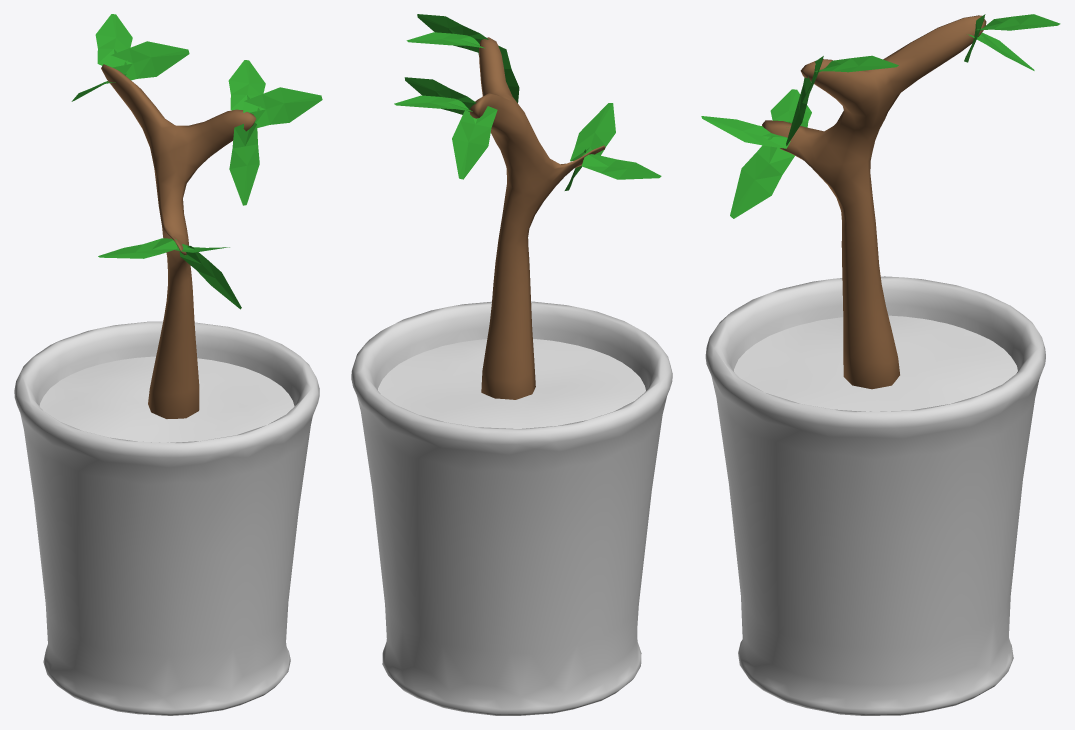
Rendered from maceta.fbx.
3 renders of one model, left to right at view 1: azimuth 30°, elevation 25°; view 2: azimuth 150°, elevation 25°; view 3: azimuth 270°, elevation 25°, orthographic. The views are drawn at different scales.
Visible parts, largest first — view 1: Cuenco, Tierra, Rama, Hoja.005, Hoja.008, Hoja.003, Hoja.007, Hoja.004, Hoja.001, Hoja; view 2: Cuenco, Tierra, Rama, Hoja.006, Hoja.002, Hoja, Hoja.008, Hoja.005, Hoja.004, Hoja.007; view 3: Cuenco, Rama, Tierra, Hoja.001, Hoja.002, Hoja.007, Hoja.004, Hoja.
Part boxes in pixels (box(x1,y1,x2,y2)): Cuenco: box(14, 321, 319, 715); Tierra: box(39, 356, 294, 442); Rama: box(101, 64, 256, 418); Hoja.005: box(243, 87, 322, 127); Hoja.008: box(110, 41, 189, 80); Hoja.003: box(229, 122, 259, 205); Hoja.007: box(95, 14, 132, 66); Hoja.004: box(228, 60, 265, 112); Hoja.001: box(179, 246, 241, 309); Hoja: box(98, 238, 177, 258); Cuenco: box(351, 301, 672, 715); Tierra: box(378, 339, 645, 428); Rama: box(469, 37, 605, 399); Hoja.006: box(452, 106, 497, 179); Hoja.002: box(570, 103, 615, 161); Hoja: box(581, 153, 661, 179); Hoja.008: box(404, 77, 476, 114); Hoja.005: box(417, 14, 488, 52); Hoja.004: box(406, 32, 485, 48); Hoja.007: box(394, 95, 472, 111); Cuenco: box(705, 276, 1045, 715); Rama: box(762, 15, 986, 389); Tierra: box(734, 315, 1017, 411); Hoja.001: box(730, 135, 794, 218); Hoja.002: box(701, 116, 790, 148); Hoja.007: box(976, 14, 1060, 30); Hoja.004: box(814, 55, 898, 72); Hoja: box(770, 89, 811, 127).
Bounding box in the file's own units: 2.28 × 4.62 × 2.16.
